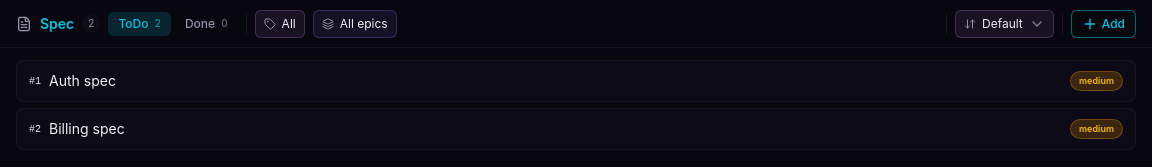
SpecsBoard epic filter › clears the filter with "All epics"
Click the button with test id "spec-epic-filter-dropdown".
click(355, 24)  # box [313, 10, 397, 38]
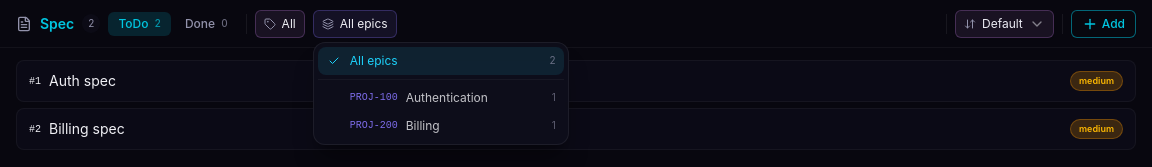
Click the option "PROJ-200 Billing 1".
click(441, 126)  # box [318, 112, 564, 140]
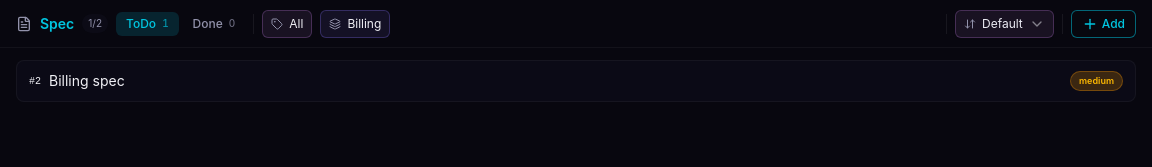
expect the button "Auth spec" is gone: met
Click the button with test id "spec-epic-filter-dropdown".
click(355, 24)  # box [320, 10, 390, 38]
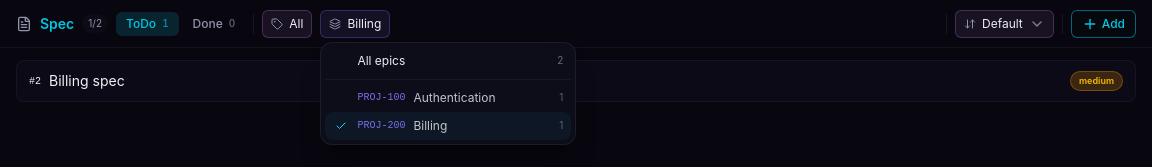
Click the option with test id "spec-epic-filter-all".
click(448, 60)  # box [325, 46, 571, 74]
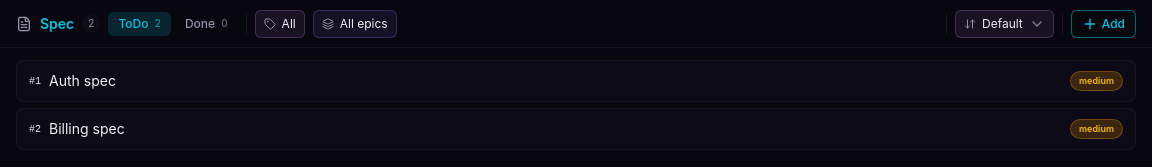
expect the text "Billing spec" is shown: met, box [49, 120, 125, 137]
expect the text "Auth spec" is shown: met, box [49, 72, 116, 89]
